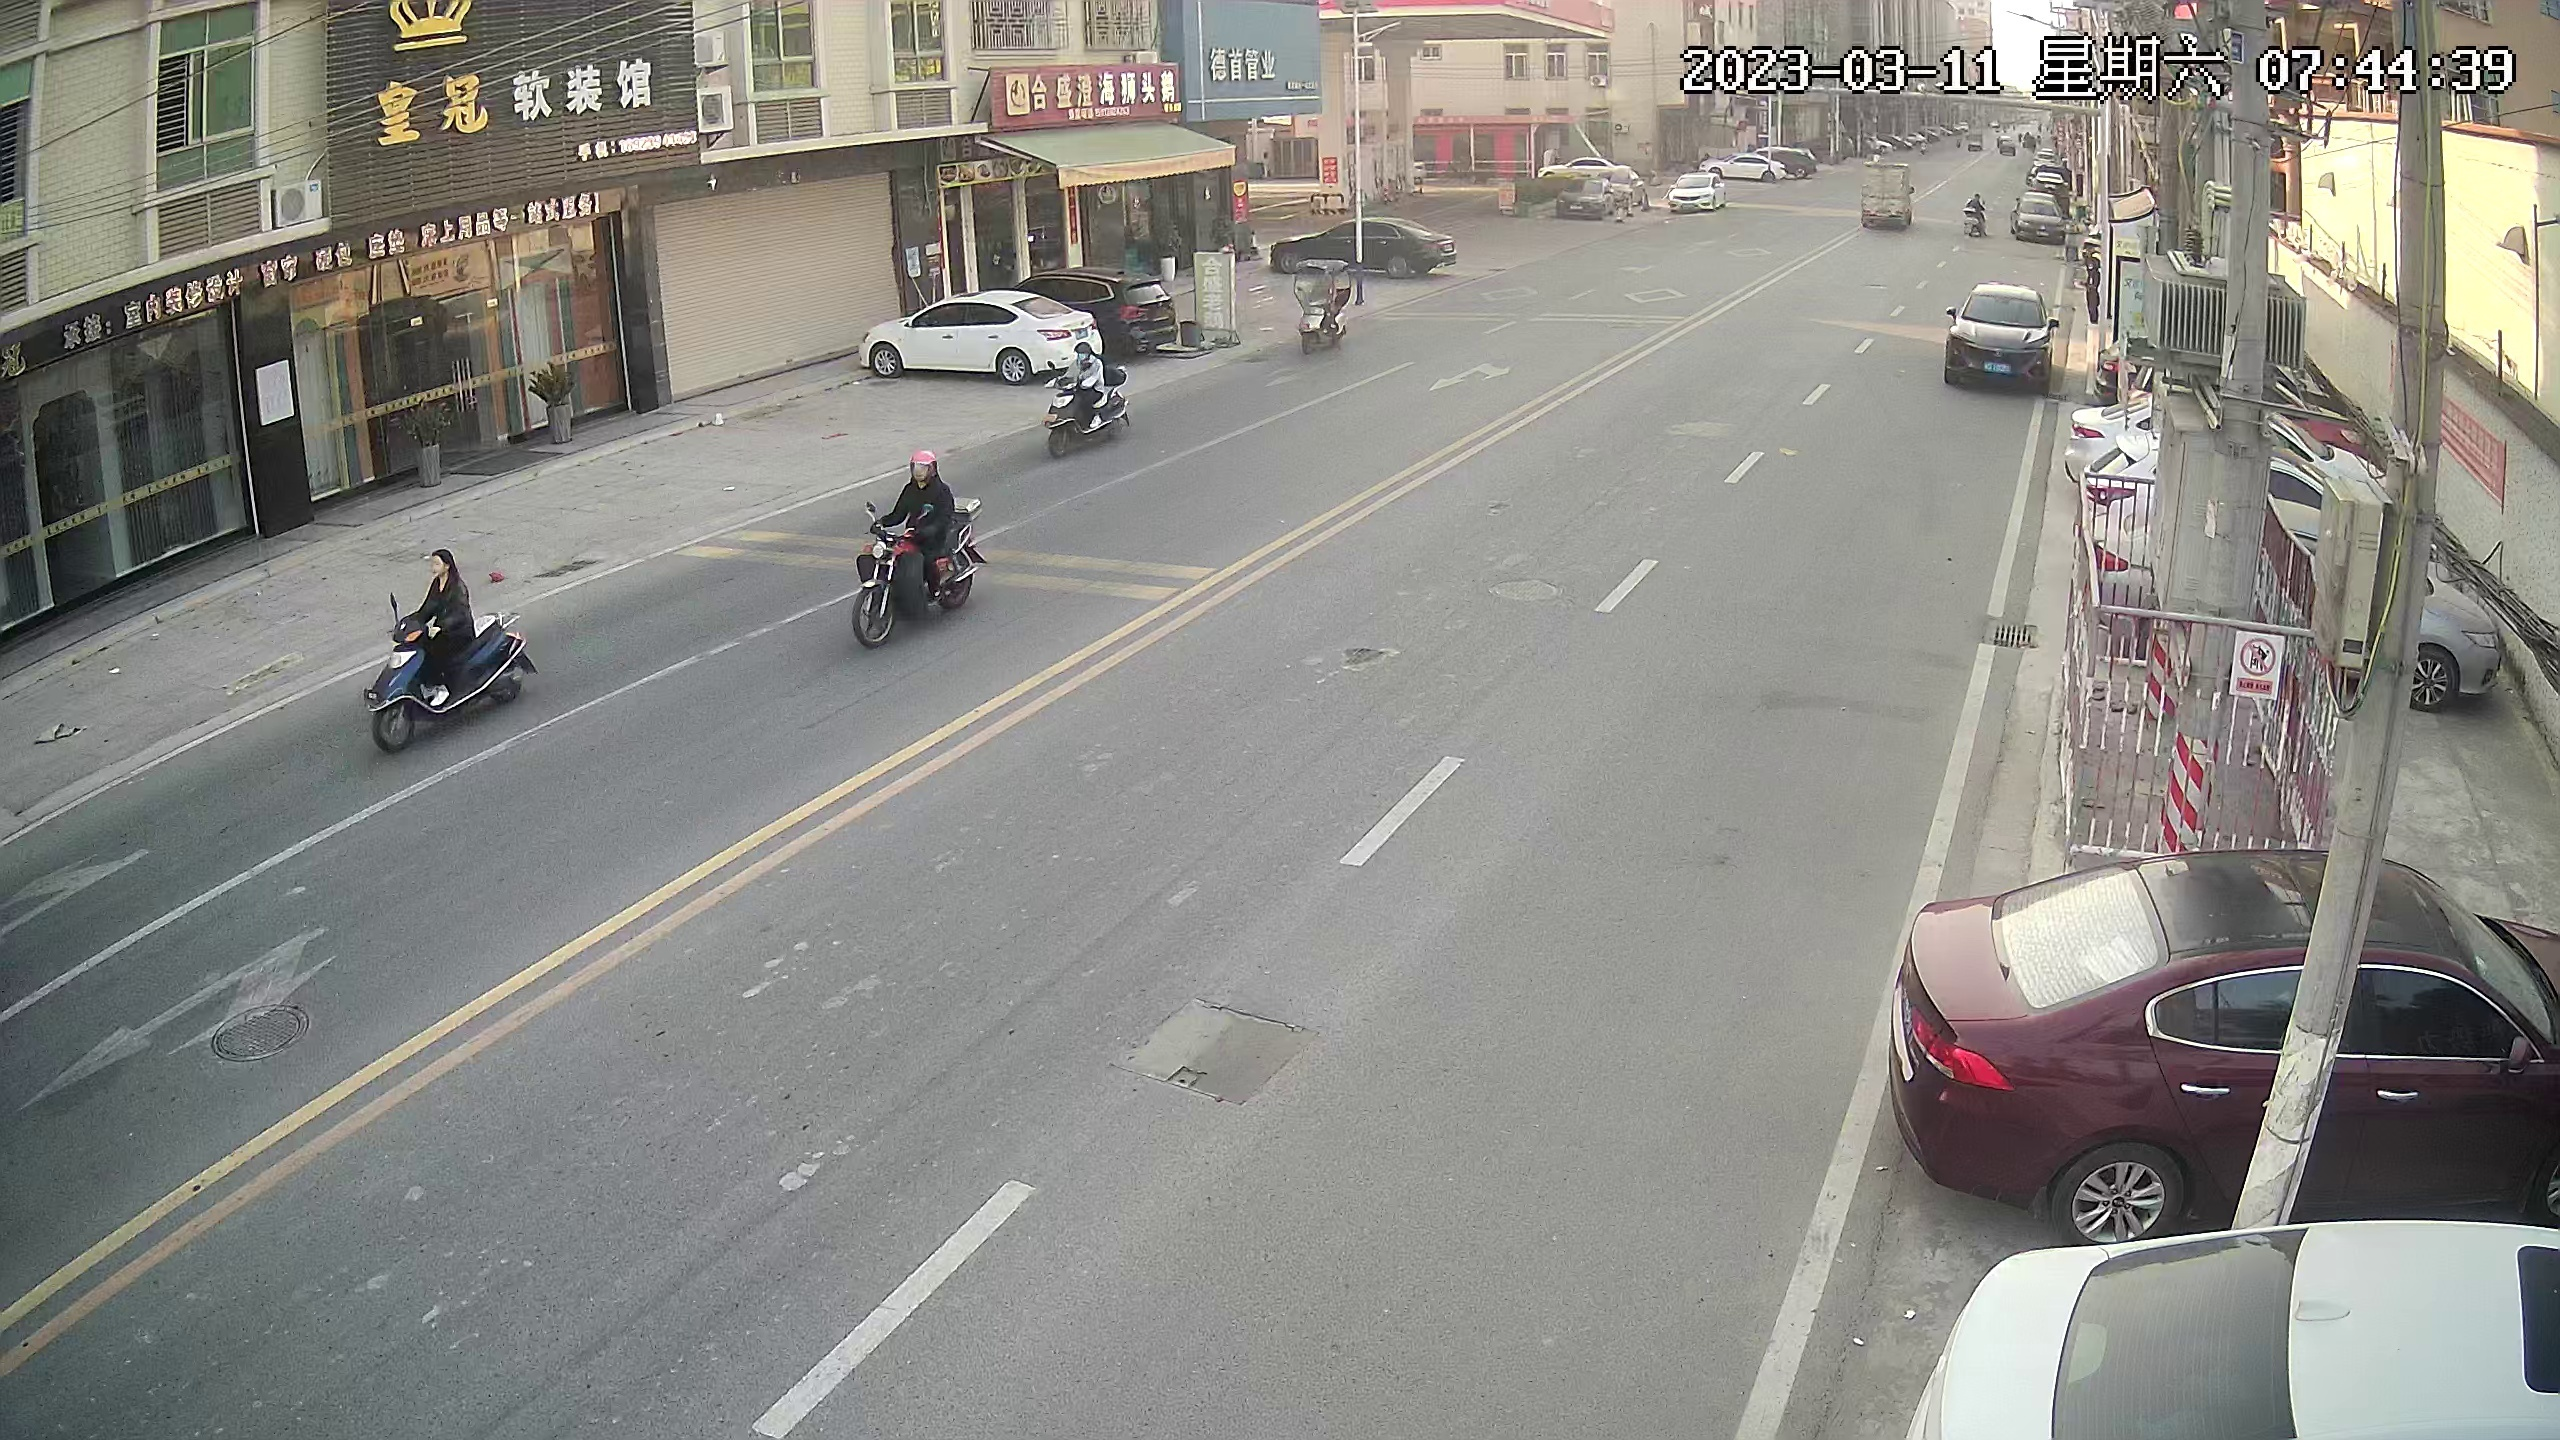motorcycle: (359, 545, 529, 745), (842, 452, 979, 649), (1048, 343, 1132, 457), (1298, 257, 1354, 359), (1959, 192, 1989, 243)
sedan: (1895, 825, 2549, 1210), (1908, 1227, 2555, 1440), (2096, 526, 2497, 702), (2092, 443, 2361, 527), (853, 294, 1090, 382), (2064, 403, 2353, 475), (1273, 207, 1459, 281), (1952, 285, 2059, 390), (1662, 176, 1725, 218), (1709, 153, 1788, 183), (1560, 174, 1609, 220), (2024, 188, 2062, 244)
suv: (1058, 271, 1180, 362)
truck: (1860, 156, 1922, 237)
